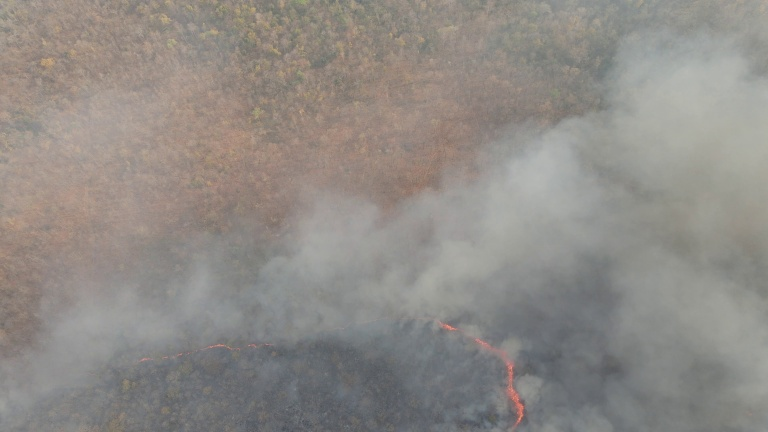fire: (413, 308, 536, 432), (135, 340, 278, 363)
smoke: (435, 142, 768, 416), (236, 197, 440, 364), (598, 47, 768, 223)
